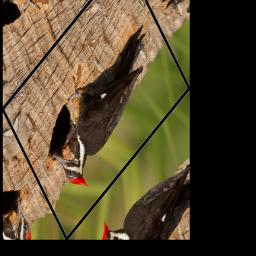Woodpecker: (36, 2, 173, 203)
